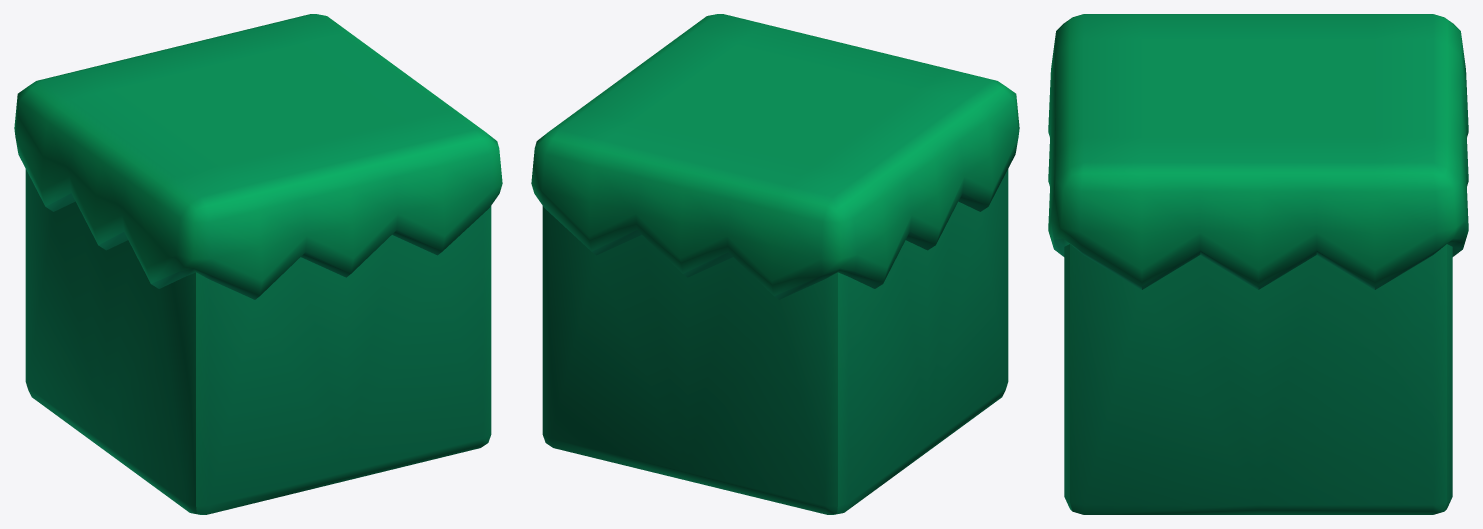
File: grass.glb
The picture shows the model from 3 angles, left to right: view 1: azimuth 30°, elevation 25°; view 2: azimuth 150°, elevation 25°; view 3: azimuth 270°, elevation 25°; orthographic projection. The views are drawn at different scales.
Visible parts, largest first — view 1: grass; view 2: grass; view 3: grass.
Boxes of the visible parts, left/top/right/bottom form: grass: left=14, top=14, right=502, bottom=514; grass: left=531, top=14, right=1019, bottom=514; grass: left=1048, top=14, right=1468, bottom=514.
Bounding box in the file's own units: 2.17 × 2 × 2.17.
Materials: 1 (1 with a texture image).
